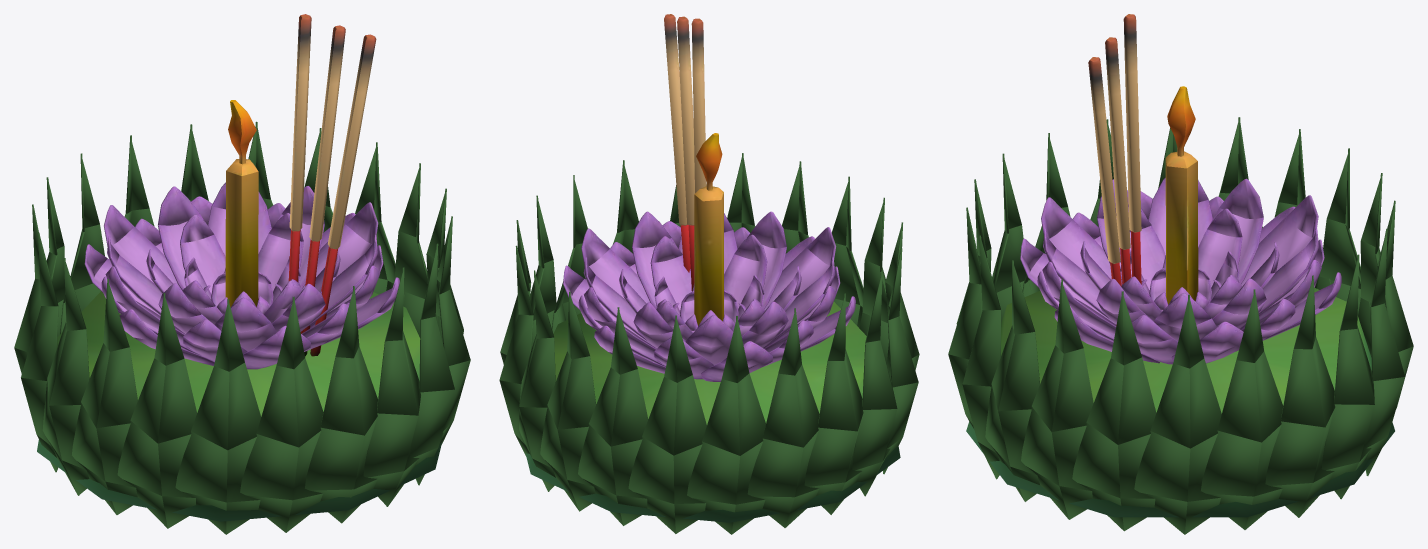
3 views of the same model, side by side, from view 1: azimuth 30°, elevation 25°; view 2: azimuth 150°, elevation 25°; view 3: azimuth 270°, elevation 25° (orthographic). The views are drawn at different scales.
Visible parts, largest first — view 1: Flower_Lotus_Stylized_Lotus_0_003, Object_0_001, Flower_017_Base_Material_0, Flower_031_Base_Material_0_003, Flower_031_Base_Material_0_017, Flower_031_Base_Material_0_004, Flower_031_Base_Material_0_018, Flower_031_Base_Material_0_019, Flower_031_Base_Material_0_008, Flower_031_Base_Material_0_002, Flower_031_Base_Material_0_013, Flower_031_Base_Material_0_020 (+16 smaller); view 2: Flower_Lotus_Stylized_Lotus_0_003, Object_0_001, Flower_017_Base_Material_0, Flower_031_Base_Material_0_009, Flower_031_Base_Material_0_012, Flower_031_Base_Material_0_001, Flower_031_Base_Material_0_011, Flower_031_Base_Material_0_010, Flower_031_Base_Material_0_020, Flower_031_Base_Material_0_002, Flower_031_Base_Material_0_015, Flower_031_Base_Material_0_019 (+16 smaller); view 3: Flower_Lotus_Stylized_Lotus_0_003, Object_0_001, Flower_017_Base_Material_0, Flower_031_Base_Material_0_005, Flower_031_Base_Material_0_014, Flower_031_Base_Material_0_016, Flower_031_Base_Material_0_007, Flower_031_Base_Material_0_006, Flower_031_Base_Material_0_013, Flower_031_Base_Material_0_015, Flower_031_Base_Material_0_010, Flower_031_Base_Material_0_008 (+14 smaller).
Part boxes in pixels (box(x1,y1,x2,y2)): Flower_Lotus_Stylized_Lotus_0_003: box(104, 182, 380, 351); Object_0_001: box(225, 14, 376, 356); Flower_017_Base_Material_0: box(37, 291, 441, 521); Flower_031_Base_Material_0_003: box(240, 296, 323, 532); Flower_031_Base_Material_0_017: box(175, 299, 261, 534); Flower_031_Base_Material_0_004: box(117, 293, 197, 528); Flower_031_Base_Material_0_018: box(305, 286, 377, 523); Flower_031_Base_Material_0_019: box(72, 279, 137, 514); Flower_031_Base_Material_0_008: box(363, 267, 420, 506); Flower_031_Base_Material_0_002: box(42, 257, 89, 495); Flower_031_Base_Material_0_013: box(410, 243, 454, 485); Flower_031_Base_Material_0_020: box(21, 232, 58, 472); Flower_Lotus_Stylized_Lotus_0_003: box(581, 211, 836, 364); Object_0_001: box(664, 14, 723, 325); Flower_017_Base_Material_0: box(525, 301, 900, 522); Flower_031_Base_Material_0_009: box(628, 315, 706, 533); Flower_031_Base_Material_0_012: box(687, 316, 765, 534); Flower_031_Base_Material_0_001: box(747, 308, 819, 527); Flower_031_Base_Material_0_011: box(578, 307, 648, 525); Flower_031_Base_Material_0_010: box(540, 291, 596, 511); Flower_031_Base_Material_0_020: box(804, 293, 863, 514); Flower_031_Base_Material_0_002: box(852, 272, 897, 496); Flower_031_Base_Material_0_015: box(519, 270, 555, 491); Flower_031_Base_Material_0_019: box(883, 248, 918, 474); Flower_Lotus_Stylized_Lotus_0_003: box(1041, 177, 1321, 341); Object_0_001: box(1088, 14, 1198, 325); Flower_017_Base_Material_0: box(966, 288, 1394, 517); Flower_031_Base_Material_0_005: box(1134, 294, 1221, 534); Flower_031_Base_Material_0_014: box(1072, 291, 1156, 531); Flower_031_Base_Material_0_016: box(1201, 289, 1283, 529); Flower_031_Base_Material_0_007: box(1021, 279, 1093, 519); Flower_031_Base_Material_0_006: box(1265, 275, 1335, 517); Flower_031_Base_Material_0_013: box(985, 260, 1039, 501); Flower_031_Base_Material_0_015: box(1321, 254, 1374, 499); Flower_031_Base_Material_0_010: box(1364, 228, 1405, 475); Flower_031_Base_Material_0_008: box(962, 235, 1001, 479).
Size of the model in its own units: 0.1863 by 0.201 by 0.1863.
30 materials, 9 textured.
